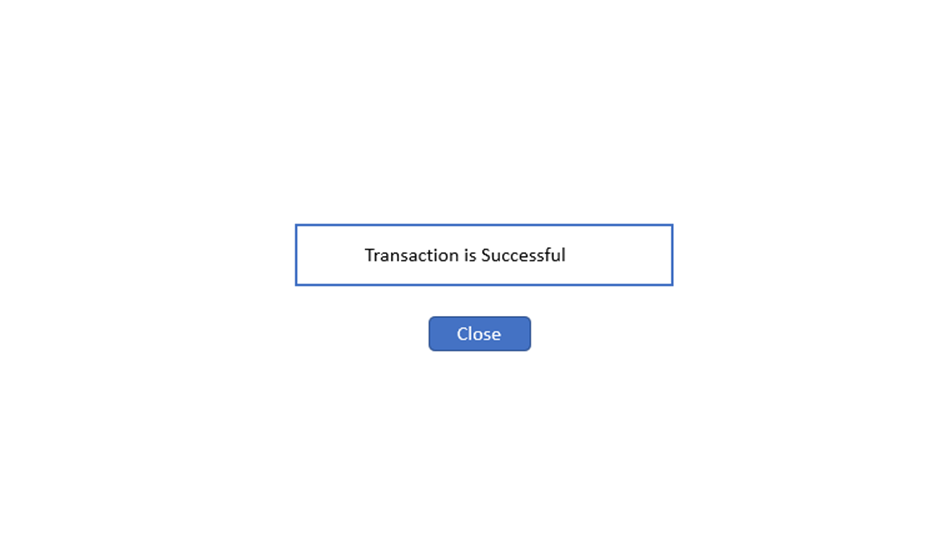button: (409, 303, 541, 369)
